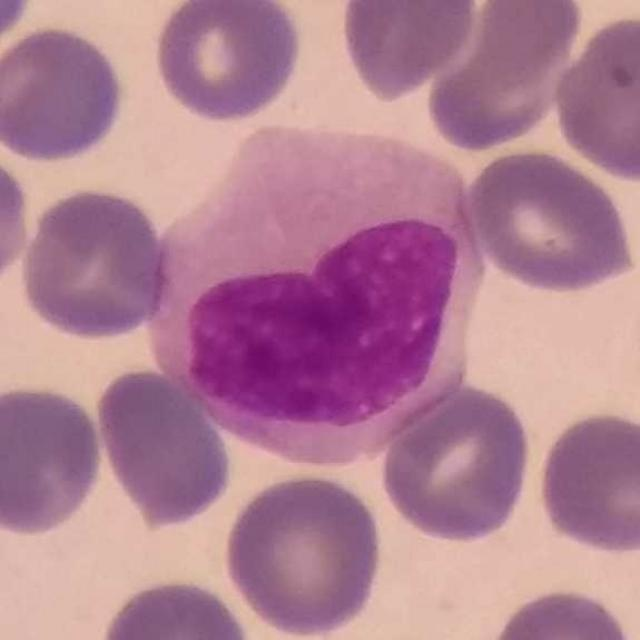Monocyte: (138, 119, 486, 461)
RBC: (220, 470, 388, 639), (376, 380, 536, 546), (463, 145, 638, 296), (16, 182, 177, 344), (418, 0, 586, 150), (92, 363, 237, 531), (149, 0, 306, 125), (0, 21, 130, 167), (0, 379, 108, 538), (532, 406, 640, 559), (547, 9, 640, 185), (335, 0, 483, 104), (95, 573, 257, 640), (483, 583, 638, 640), (0, 165, 35, 284)
